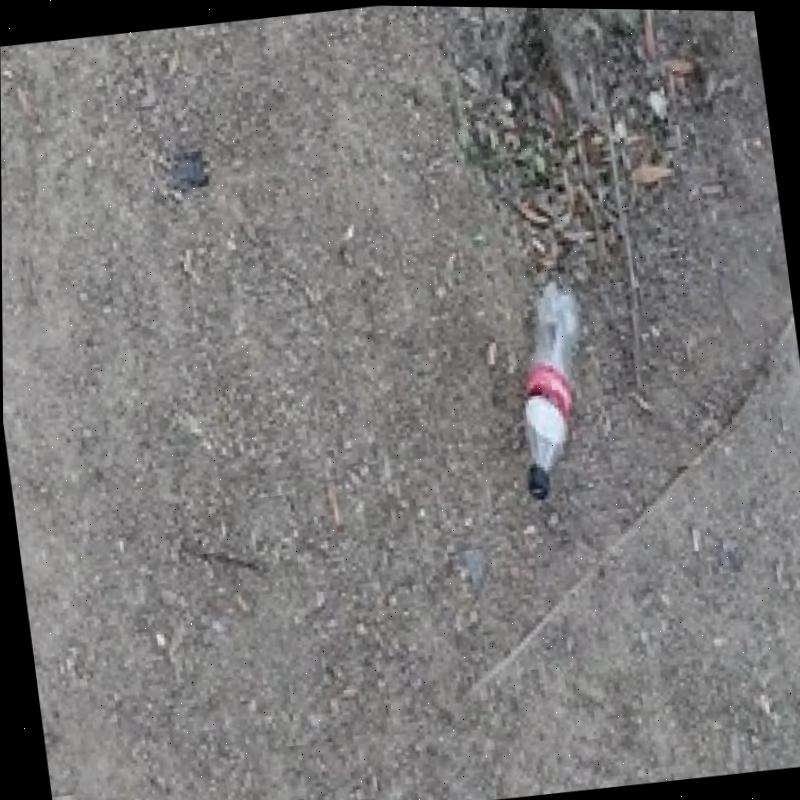botella: (489, 275, 604, 503)
